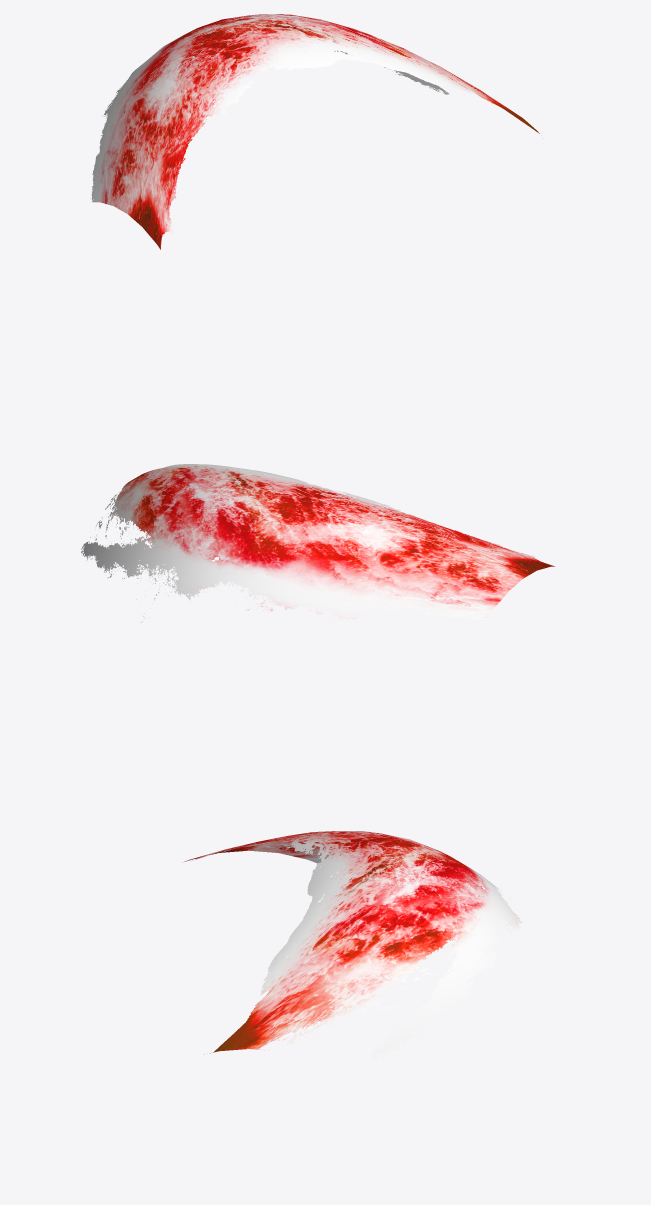
The model's file is bolang_1.FBX.
3 views of the same model, one above another, from view 1: azimuth 30°, elevation 25°; view 2: azimuth 150°, elevation 25°; view 3: azimuth 270°, elevation 25° (orthographic). The views are drawn at different scales.
Visible parts, largest first — view 1: Plane002; view 2: Plane002; view 3: Plane002.
Boxes of the visible parts, x1,y1,x2,y2 form: Plane002: (90,14,539,249); Plane002: (81,464,554,622); Plane002: (184,831,539,1059).
Bounding box in the file's own units: 40 × 22.11 × 53.12.
